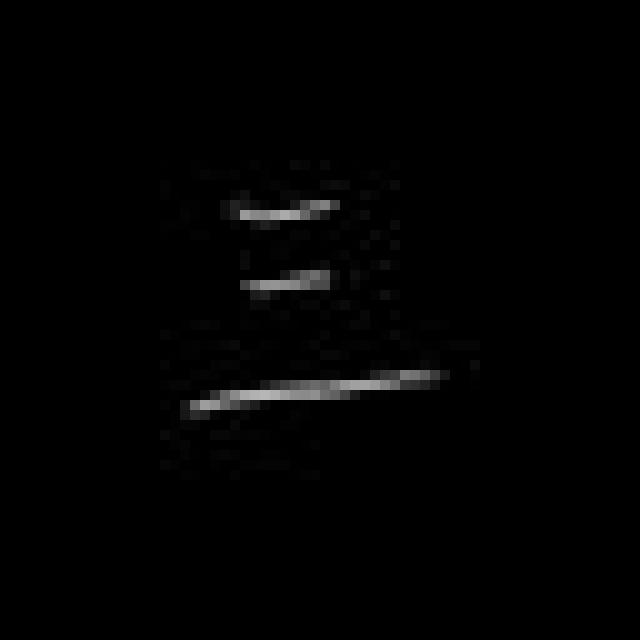3 -three-: (155, 192, 449, 433)
